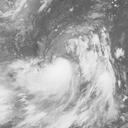cyclone: (26, 23, 106, 108)
